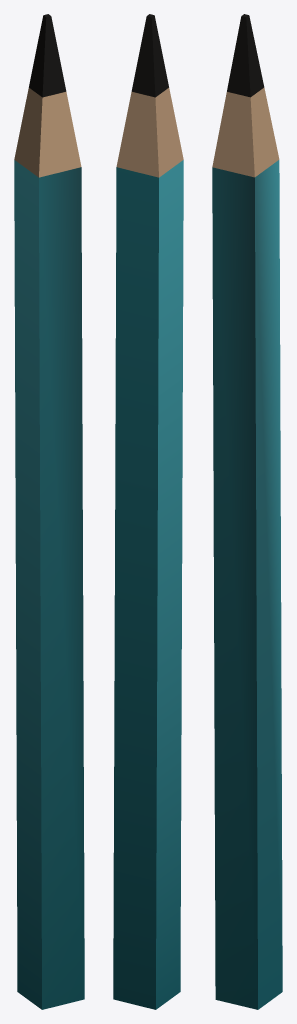
Rendered from pencil-blue.fbx.
3 views of the same model, side by side, from view 1: azimuth 30°, elevation 25°; view 2: azimuth 150°, elevation 25°; view 3: azimuth 330°, elevation 25° (orthographic).
Parts seen in each view (by area): view 1: pencil-blue; view 2: pencil-blue; view 3: pencil-blue.
Boxes of the visible parts, left/top/right/bottom form: pencil-blue: left=14, top=14, right=84, bottom=1009; pencil-blue: left=113, top=14, right=183, bottom=1009; pencil-blue: left=212, top=14, right=282, bottom=1009.
Bounding box in the file's own units: 0.0177 × 0.3608 × 0.0164.
